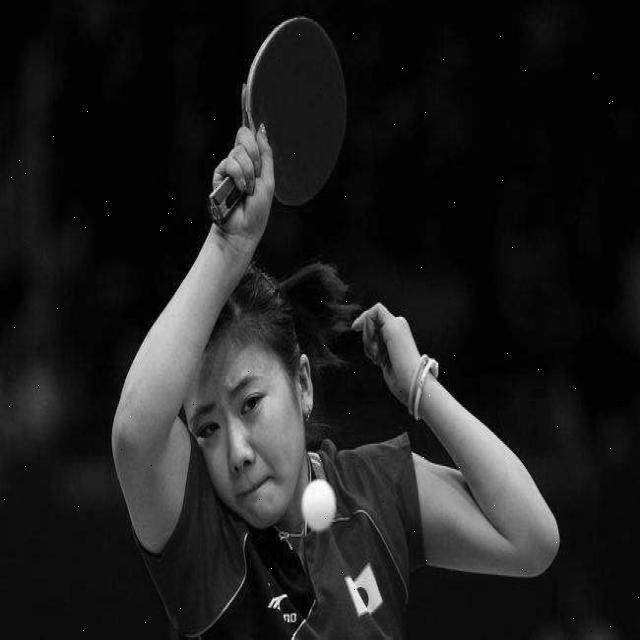ping-pong-ball: (296, 472, 338, 537)
